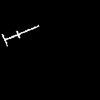double_crochet: (2, 25, 38, 45)
